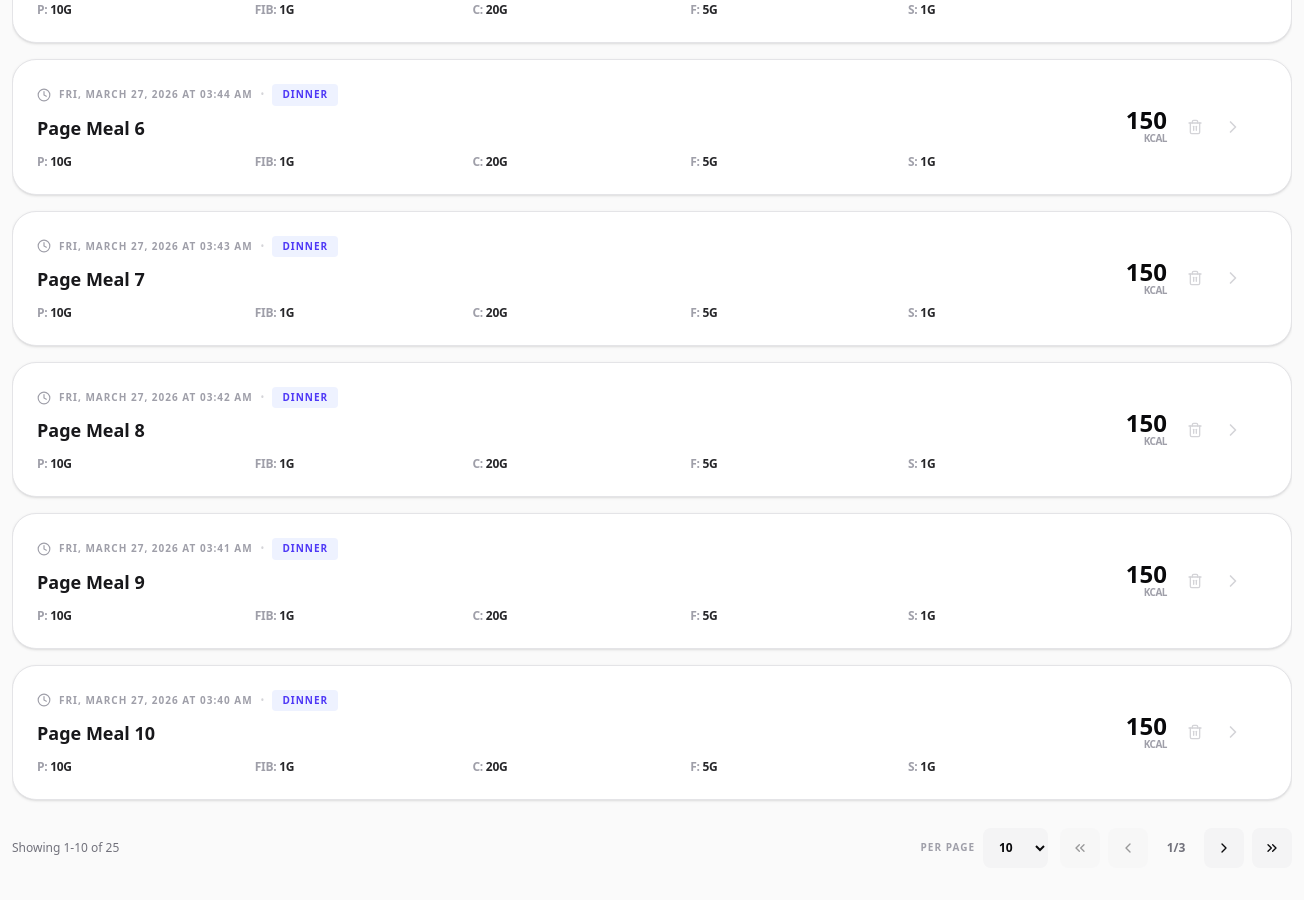
Test case: DiaryView › resets to first page when page size changes
(page scrolled)
Click the button named "Next page". click: click(1224, 848)
box: x1=1204 y1=828 x2=1244 y2=868
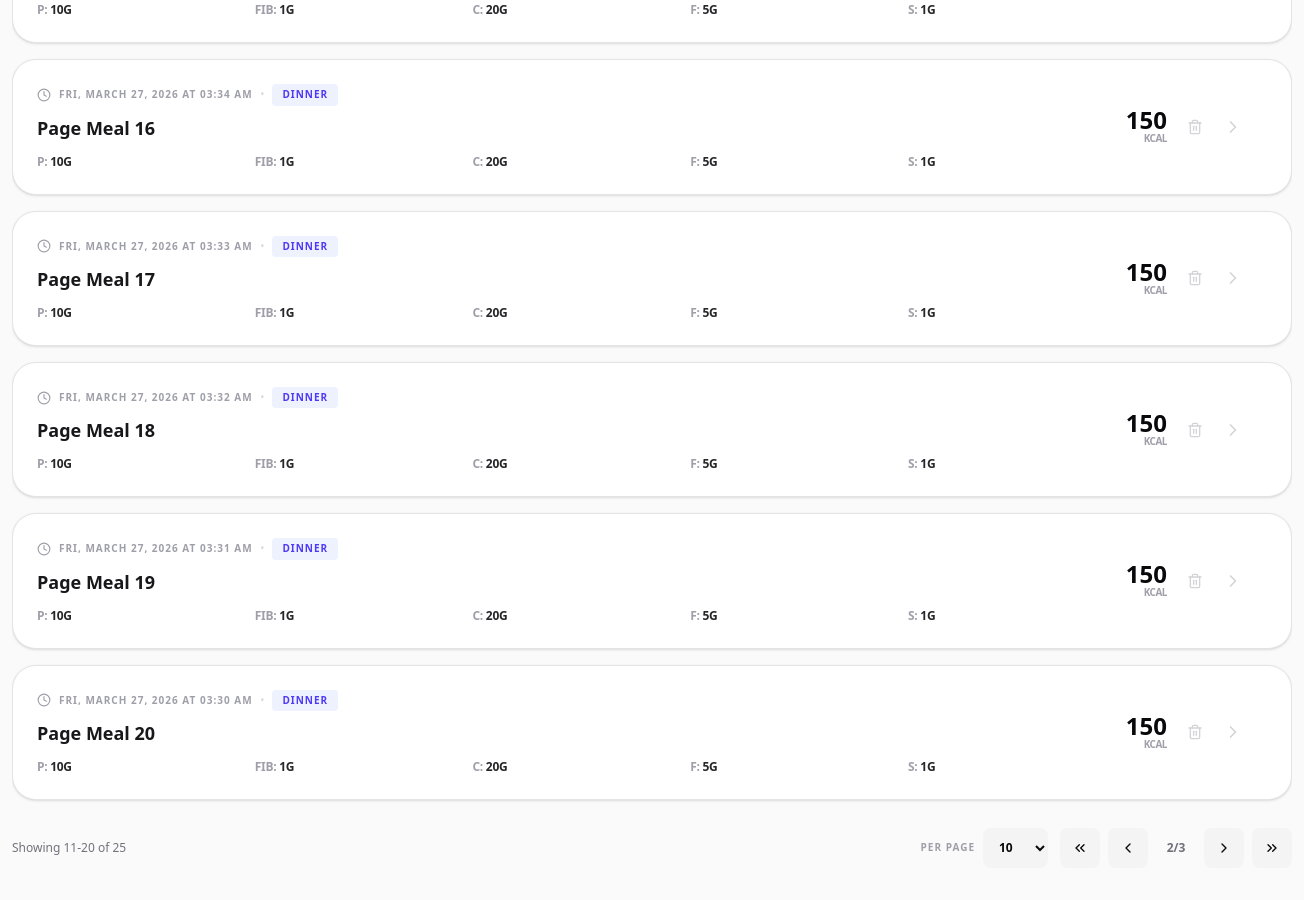
expect the text "2/3" is shown: met, box x1=1167 y1=839 x2=1185 y2=856
Select "50" in the dropdown showing "10". click: (1016, 848)
box: x1=983 y1=828 x2=1048 y2=868
(page scrolled)
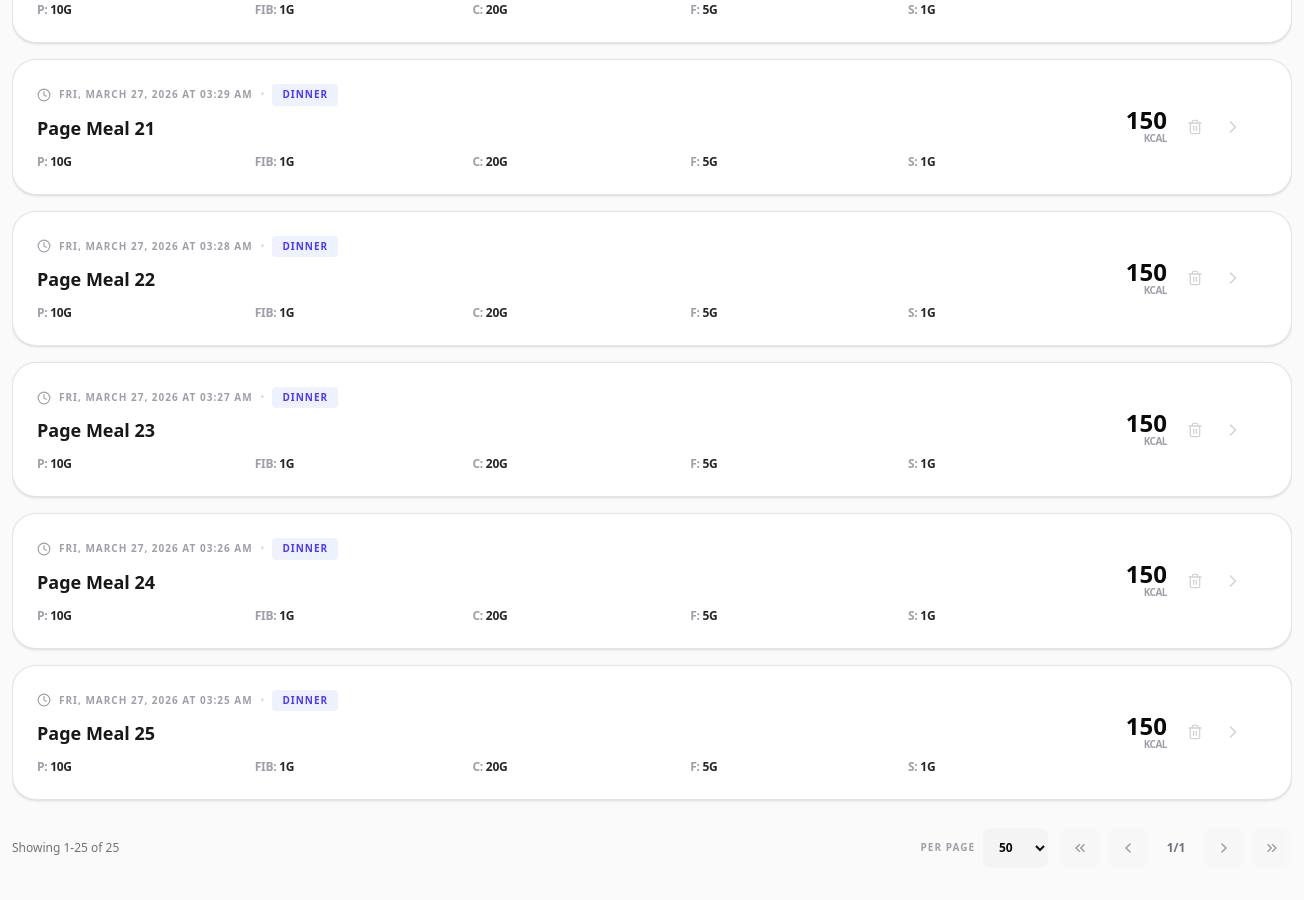
expect the text "1/1" is shown: met, box x1=1167 y1=839 x2=1185 y2=856
